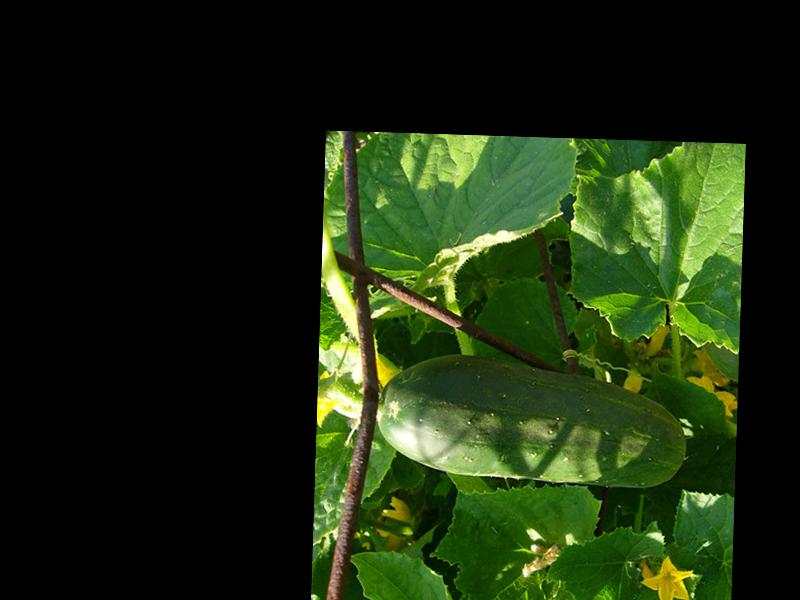Cucumber: (375, 349, 689, 490)
